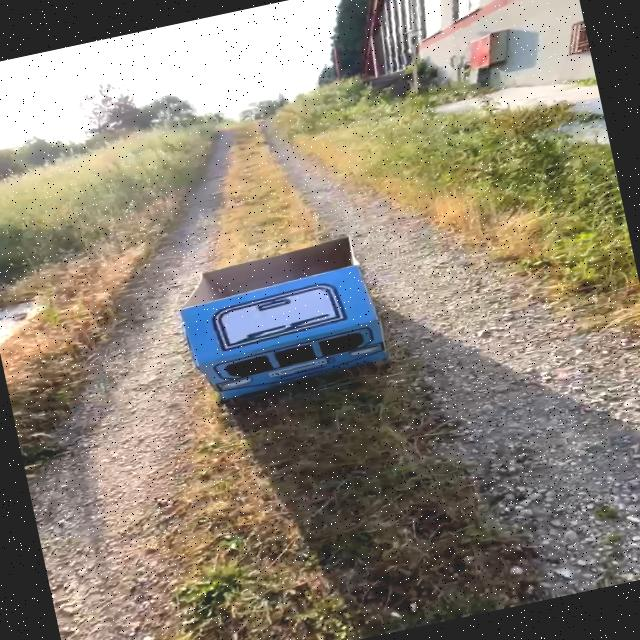blue_car: (146, 202, 429, 438)
